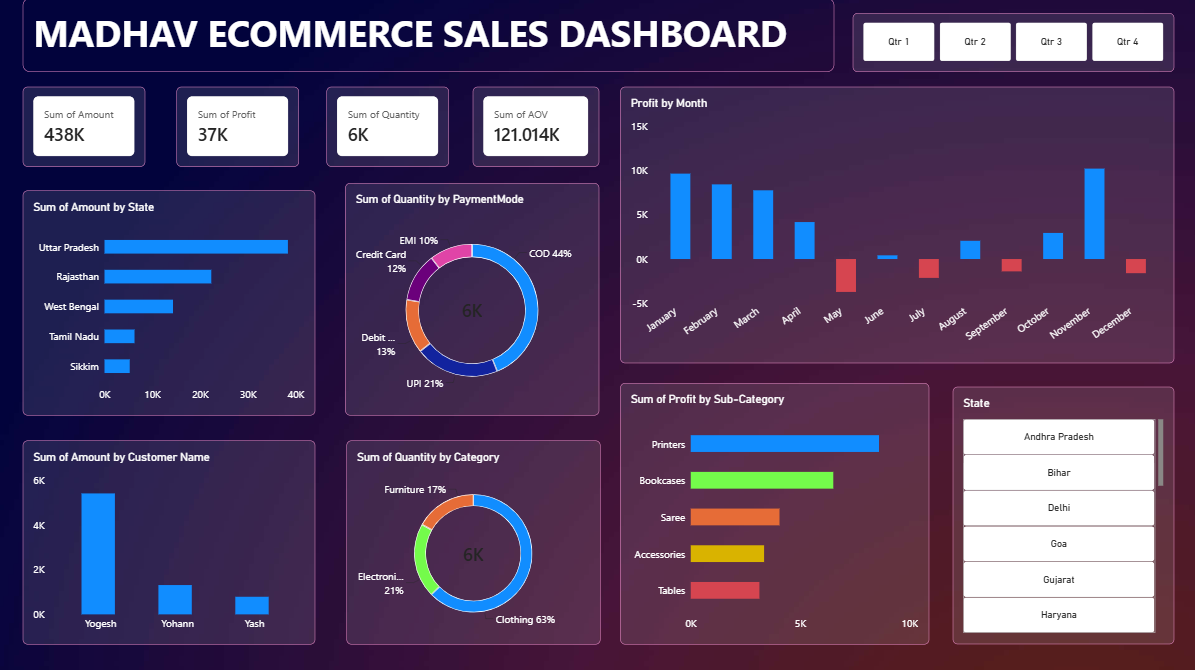

What the dashboard file says about the page in this screenshot:
{"tool":"powerbi","page":{"name":"Page 1","canvas":[1920,1080],"ordinal":0},"visuals":[{"type":"textbox","box":[38,0,1298,118],"z":0},{"type":"columnChart","title":"Profit by Month","fields":{"Category":["Order .Order Date.Variation.Date Hierarchy.Month"],"Y":["Sum(Details.Profit)"]},"box":[994,142,886,442],"z":1000},{"type":"barChart","title":"Sum of Profit by Sub-Category","fields":{"Category":["Details.Sub-Category"],"Y":["Sum(Details.Profit)"]},"box":[994,616,494,418],"z":2000},{"type":"donutChart","fields":{"Category":["Details.Category"],"Y":["Sum(Details.Quantity)"]},"box":[556,708,406,326],"z":3000},{"type":"donutChart","fields":{"Category":["Details.PaymentMode"],"Y":["Sum(Details.Quantity)"]},"box":[554,296,406,372],"z":4000},{"type":"cardVisual","fields":{"Data":["Sum(Details.Amount)"]},"box":[38,142,196,128],"z":5000},{"type":"cardVisual","fields":{"Data":["Sum(Details.AOV)"]},"box":[758,142,202,128],"z":6000},{"type":"cardVisual","fields":{"Data":["Sum(Details.Profit)"]},"box":[284,142,196,128],"z":7000},{"type":"cardVisual","fields":{"Data":["Sum(Details.Quantity)"]},"box":[524,142,196,128],"z":8000},{"type":"barChart","title":"Sum of Amount by State","fields":{"Category":["Order .State"],"Y":["Sum(Details.Amount)"]},"box":[38,308,468,360],"z":9000},{"type":"columnChart","fields":{"Category":["Order .Customer Name"],"Y":["Sum(Details.Amount)"]},"box":[38,708,468,326],"z":10000},{"type":"advancedSlicerVisual","fields":{"Values":["Order .Order Date.Variation.Date Hierarchy.Quarter"]},"box":[1366,24,514,94],"z":11000},{"type":"advancedSlicerVisual","fields":{"Values":["Order .State"]},"box":[1526,622,354,412],"z":12000}]}

Visuals, with their boxes in screenshot pixels (x1, y1, x2, y2), scaled from the page's 1920x1080 canvas onto the 1195x670 screenshot:
textbox: [left=24, top=0, right=832, bottom=73]
"Profit by Month" columnChart: [left=619, top=88, right=1170, bottom=362]
"Sum of Profit by Sub-Category" barChart: [left=619, top=382, right=926, bottom=641]
donutChart - Details.Category x Sum(Details.Quantity): [left=346, top=439, right=599, bottom=641]
donutChart - Details.PaymentMode x Sum(Details.Quantity): [left=345, top=184, right=598, bottom=414]
cardVisual - Sum(Details.Amount): [left=24, top=88, right=146, bottom=168]
cardVisual - Sum(Details.AOV): [left=472, top=88, right=598, bottom=168]
cardVisual - Sum(Details.Profit): [left=177, top=88, right=299, bottom=168]
cardVisual - Sum(Details.Quantity): [left=326, top=88, right=448, bottom=168]
"Sum of Amount by State" barChart: [left=24, top=191, right=315, bottom=414]
columnChart - Order .Customer Name x Sum(Details.Amount): [left=24, top=439, right=315, bottom=641]
advancedSlicerVisual - Order .Order Date.Variation.Date Hierarchy.Quarter: [left=850, top=15, right=1170, bottom=73]
advancedSlicerVisual - Order .State: [left=950, top=386, right=1170, bottom=641]
